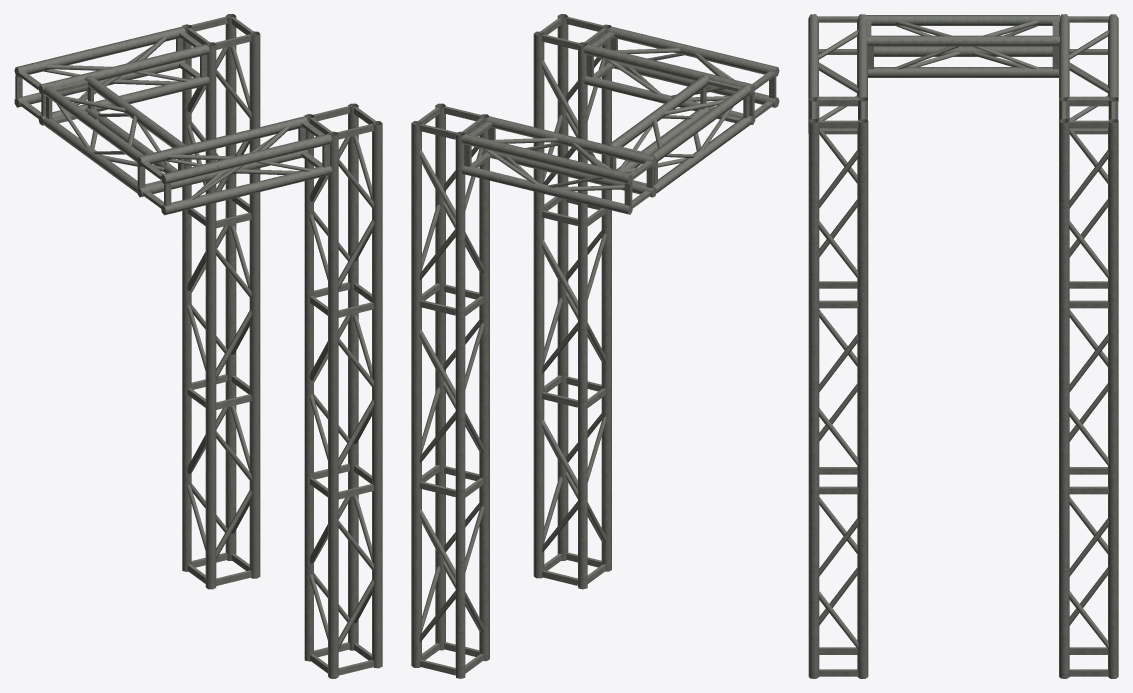
The model's file is Speaker_Frame.fbx.
The picture shows the model from 3 angles, left to right: view 1: azimuth 30°, elevation 25°; view 2: azimuth 150°, elevation 25°; view 3: azimuth 270°, elevation 25°; orthographic projection. The views are drawn at different scales.
Visible parts, largest first — view 1: Speaker_Frame; view 2: Speaker_Frame; view 3: Speaker_Frame.
Boxes of the visible parts, left/top/right/bottom form: Speaker_Frame: left=14, top=14, right=382, bottom=678; Speaker_Frame: left=411, top=14, right=779, bottom=678; Speaker_Frame: left=808, top=14, right=1118, bottom=678.
Size of the model in its own units: 3.85 by 9.13 by 4.62.
